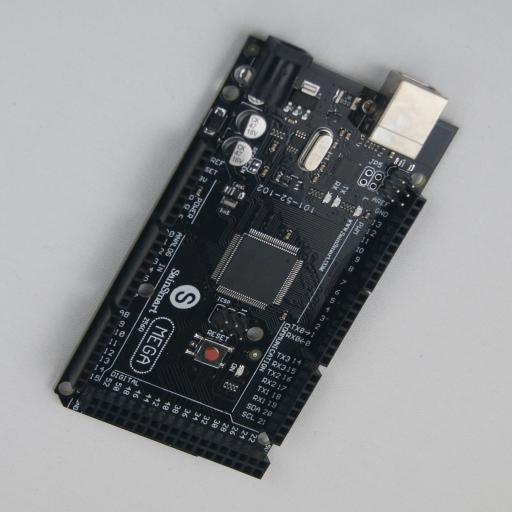Arduino Mega 2560 -Black-: (54, 34, 458, 480)
